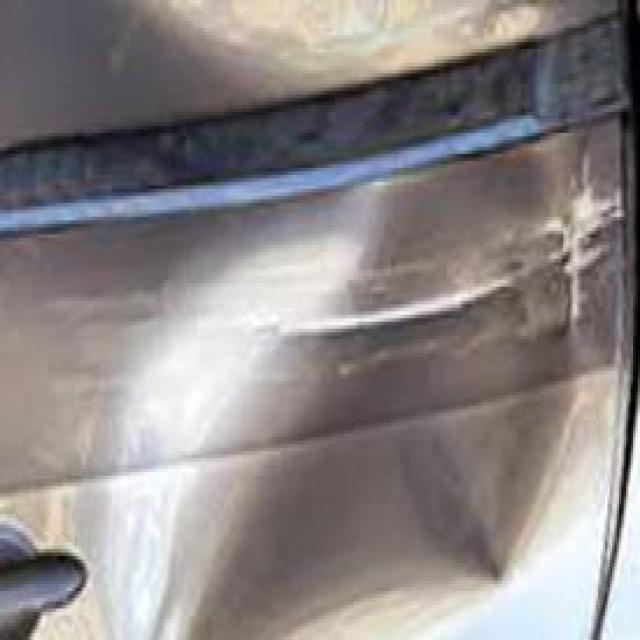dent: (117, 157, 604, 640)
